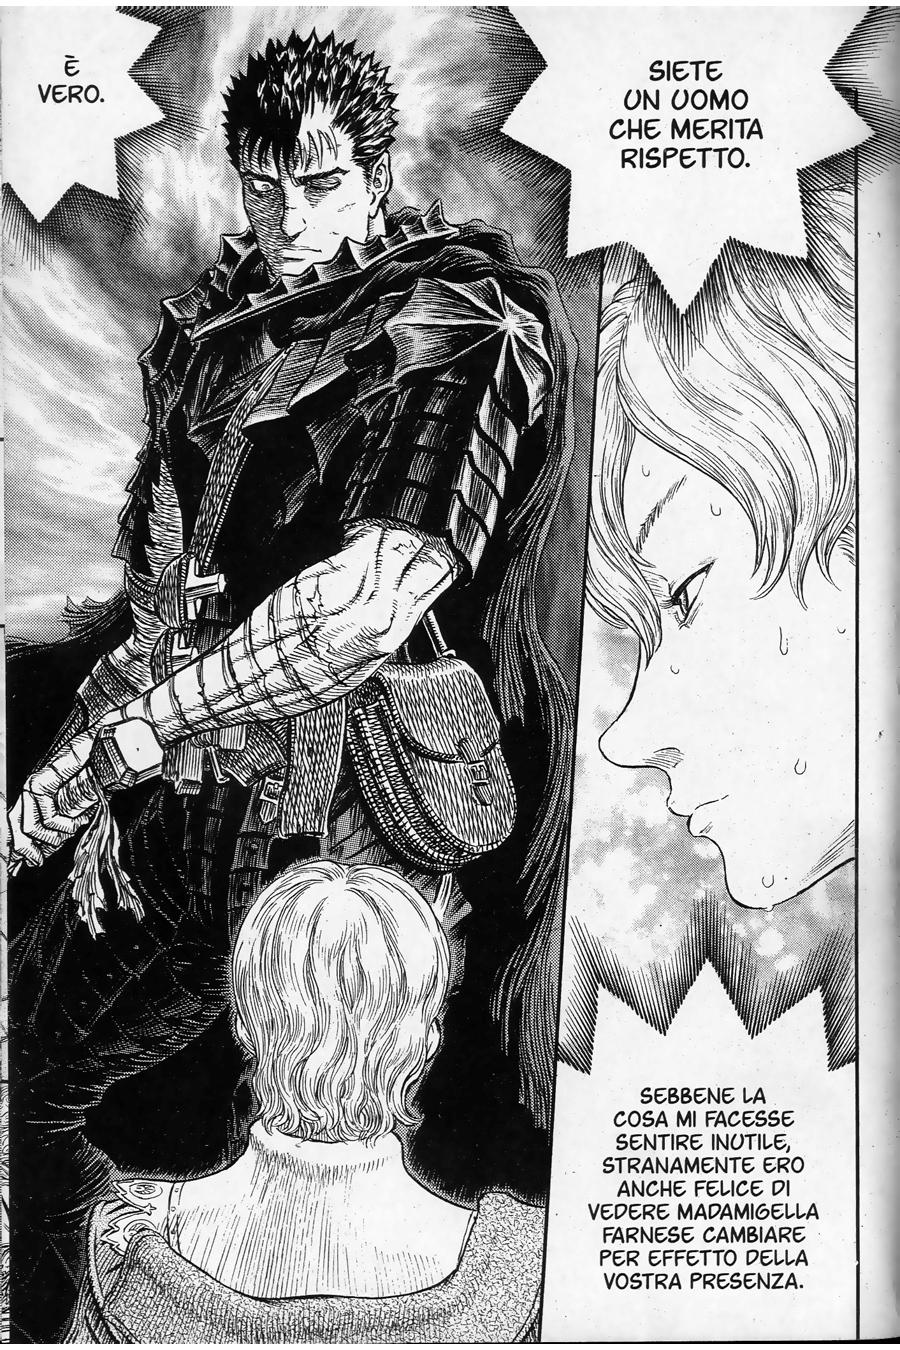Baloon: (495, 1, 883, 317), (551, 962, 861, 1350), (6, 11, 175, 230)
Vignetta: (4, 3, 593, 1350), (540, 85, 861, 1340)
